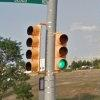Traffic light: (16, 20, 84, 81)
